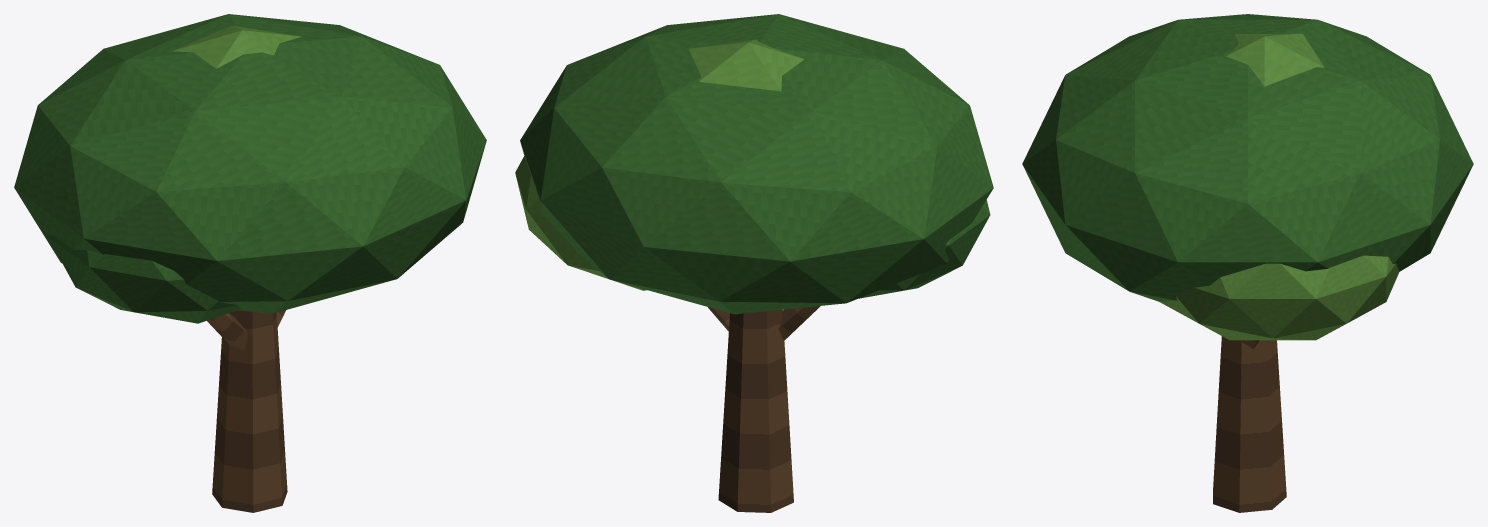
File: tree-oak-lod0.glb
3 renders of one model, left to right at view 1: azimuth 30°, elevation 25°; view 2: azimuth 150°, elevation 25°; view 3: azimuth 270°, elevation 25°, orthographic.
Parts seen in each view (by area): view 1: tree-oak-lod0; view 2: tree-oak-lod0; view 3: tree-oak-lod0.
Boxes of the visible parts, x1=… form: tree-oak-lod0: x1=14, y1=14, x2=486, y2=512; tree-oak-lod0: x1=515, y1=14, x2=993, y2=512; tree-oak-lod0: x1=1022, y1=14, x2=1473, y2=512.
Size of the model in its own units: 3.41 by 3.67 by 3.26.
Materials: 1 (1 with a texture image).
